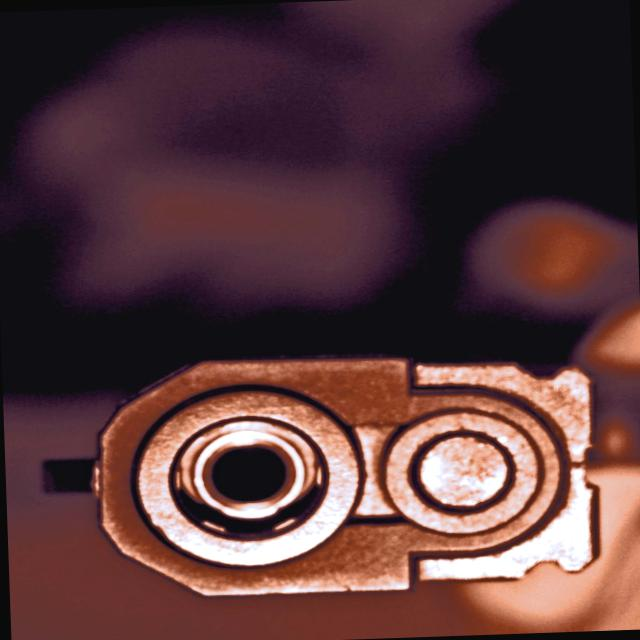handgun: (84, 343, 600, 602)
